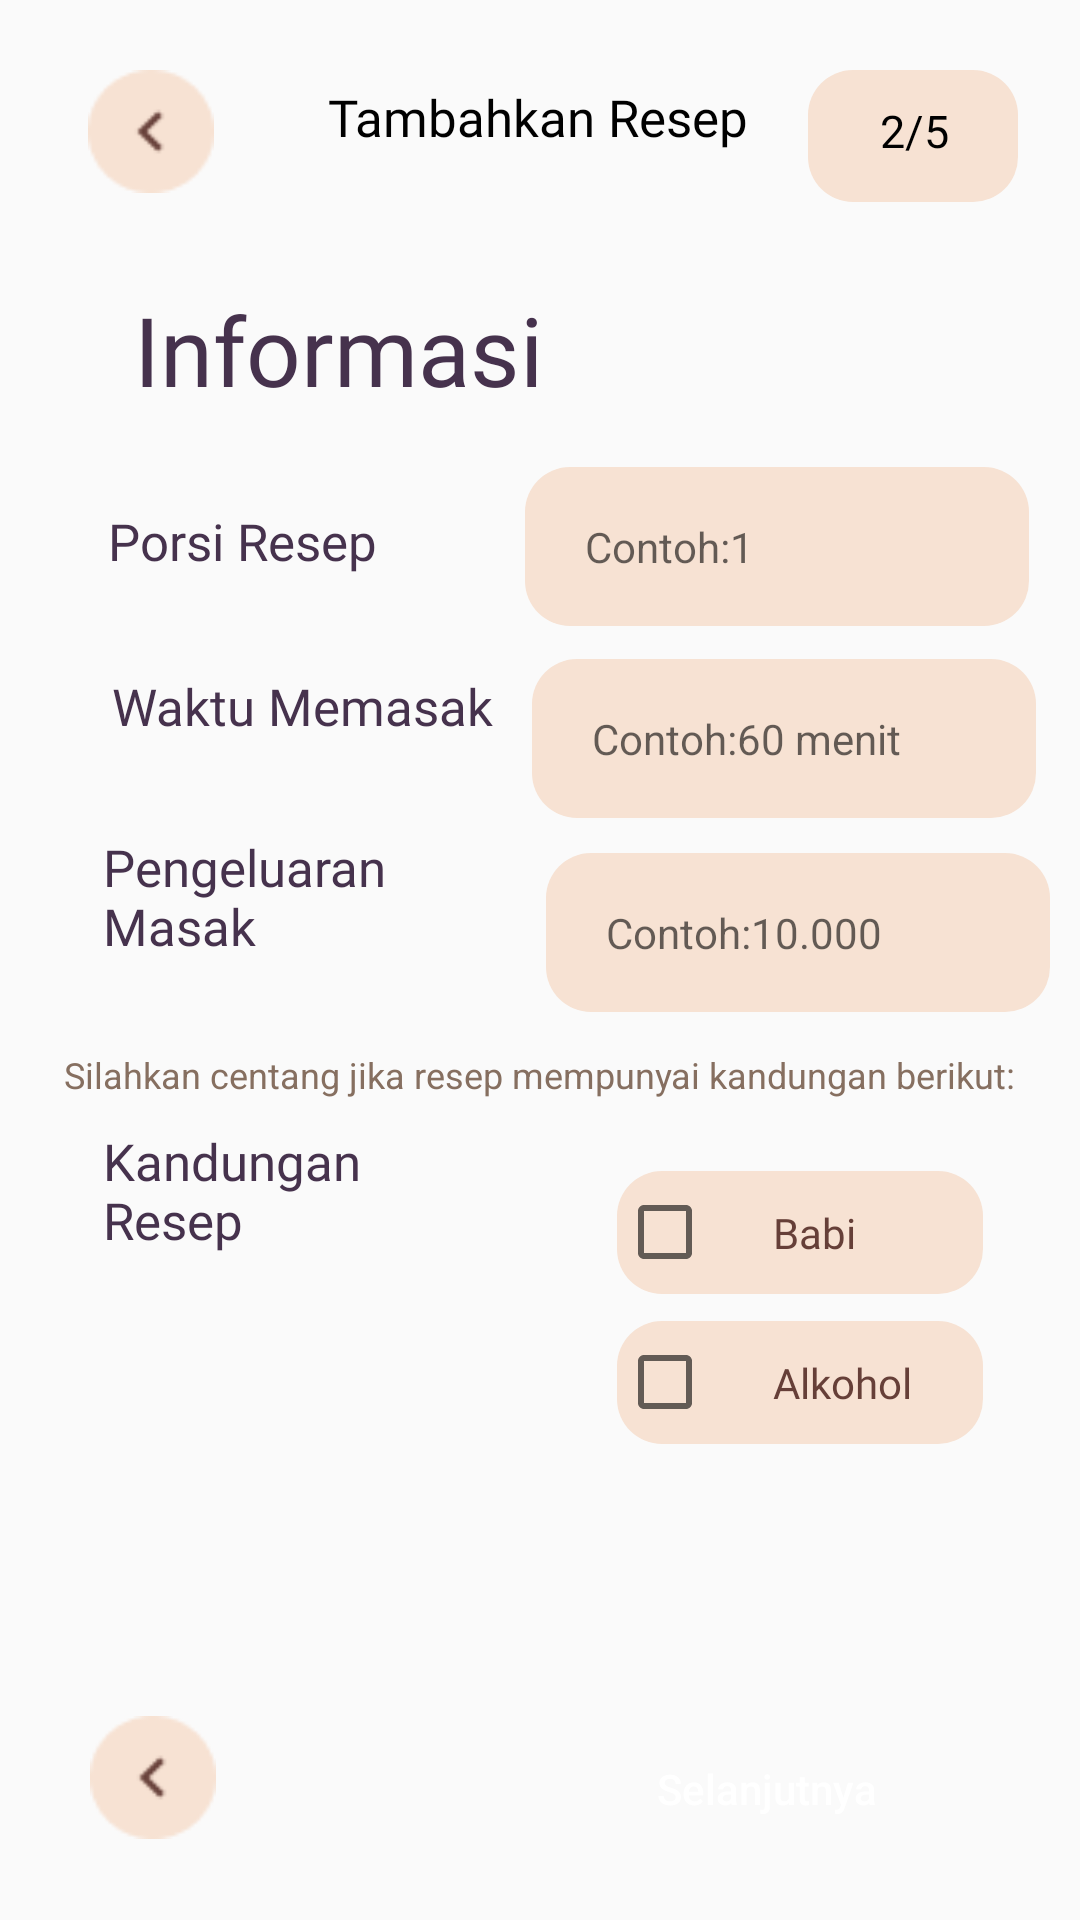

Icons on this 1080×1920 Android screen, each with its box as [left=x1, top=y1, right=x2, bottom=y2]:
back: [left=88, top=70, right=214, bottom=193], [left=90, top=1716, right=216, bottom=1839]
